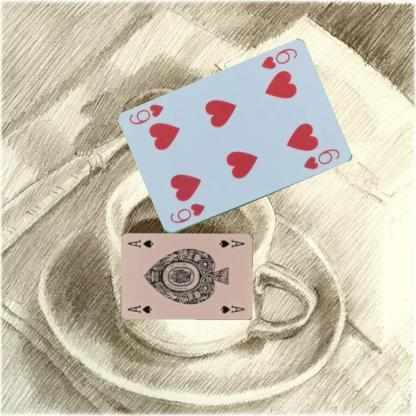6h: (258, 46, 299, 72), (166, 201, 206, 224)
As: (216, 236, 246, 248), (124, 302, 154, 314)
